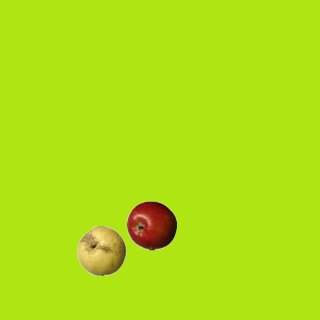Apple Braeburn: (126, 200, 176, 250)
Apple Golden 1: (76, 225, 126, 275)
